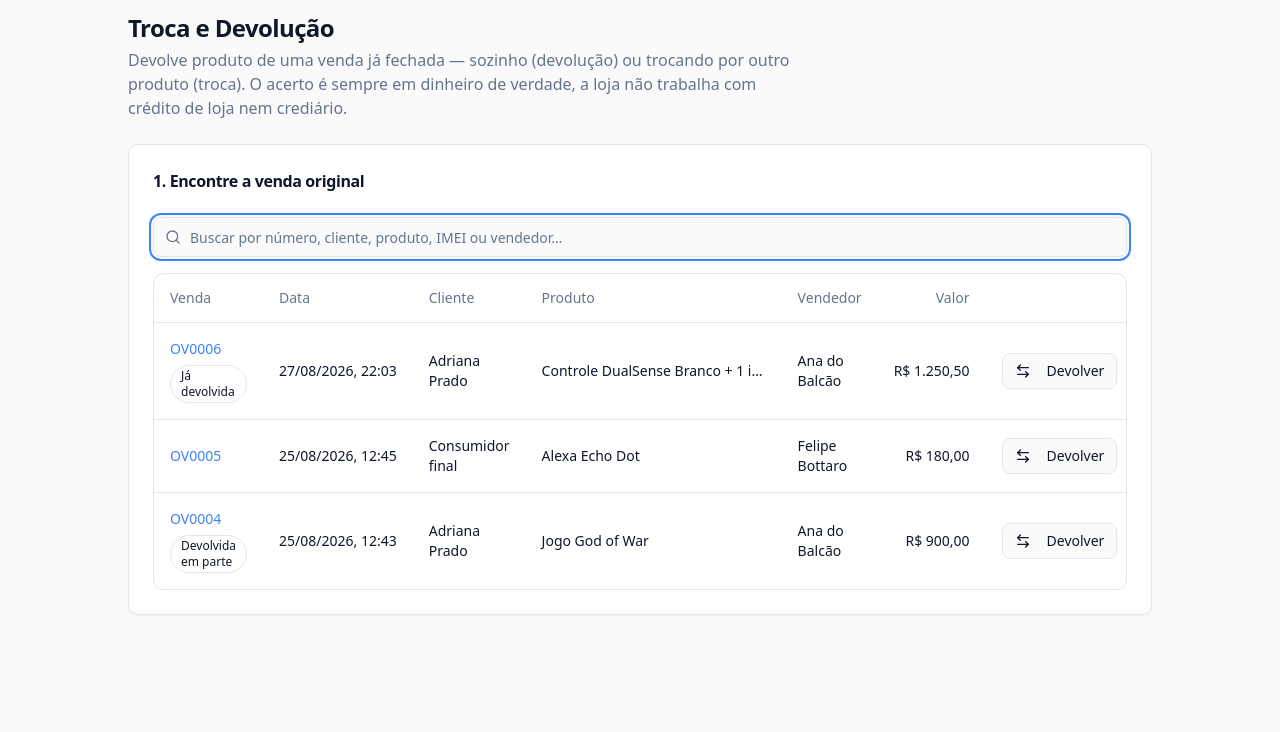
Test: A lista de vendas da Troca e Devolução › as duas ações da linha › o botão Devolver é que começa a devolução
The width and height of the screenshot is (1280, 732).
What coordinates should you click on to do the following:
click the button "Devolver" in the row of "25/08/2026, 12:45"
I would click on:
 (1060, 456)
Its box is 1002,438 -> 1117,474.
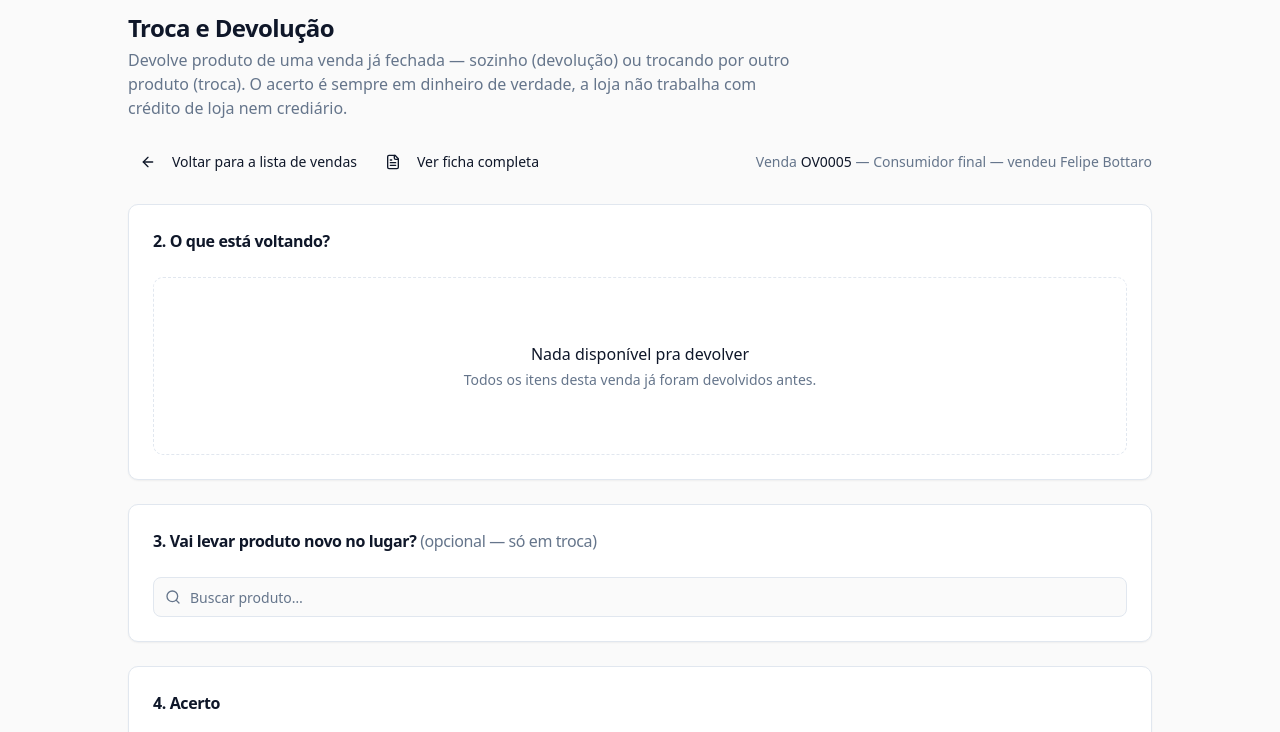
Expected: the text "2. O que está voltando?" is shown, 153,230 -> 330,252
